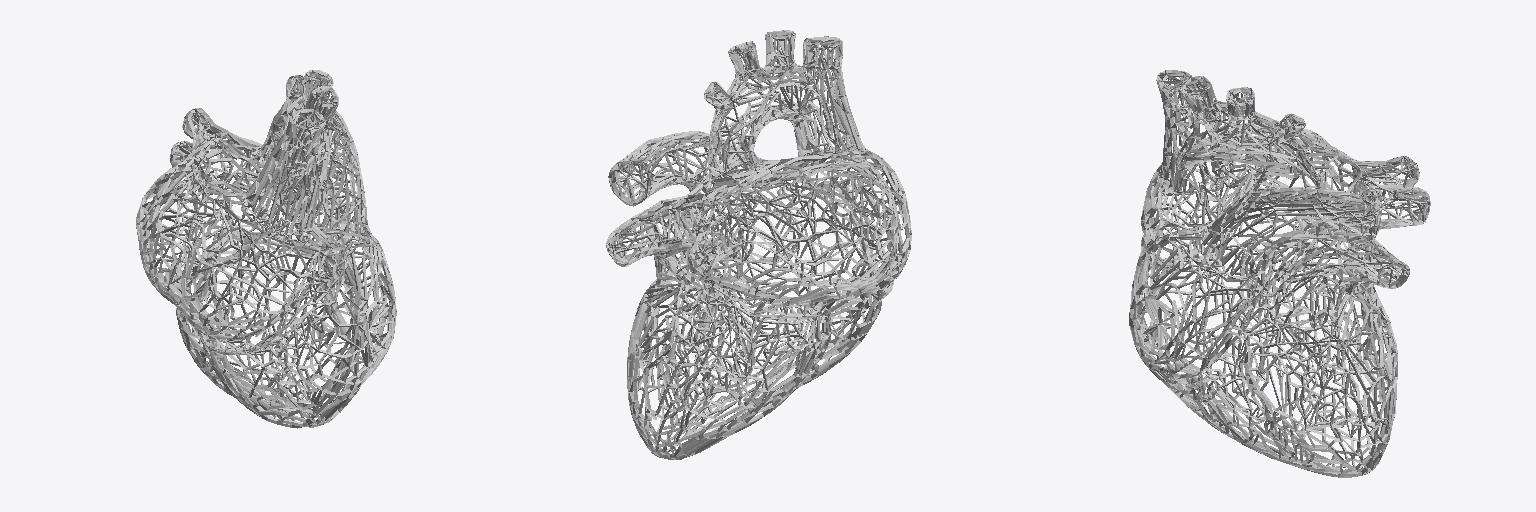
Rendered from heart_gold.obj.
3 renders of one model, left to right at view 1: azimuth 30°, elevation 25°; view 2: azimuth 150°, elevation 25°; view 3: azimuth 270°, elevation 25°, orthographic.
Parts seen in each view (by area): view 1: Mesh_0.001; view 2: Mesh_0.001; view 3: Mesh_0.001.
Part boxes in pixels (x1,y1,x2,y2): Mesh_0.001: (136,70,396,428); Mesh_0.001: (606,30,911,459); Mesh_0.001: (1129,70,1430,477).
Bounding box in the file's own units: 5.16 × 8.15 × 5.87.